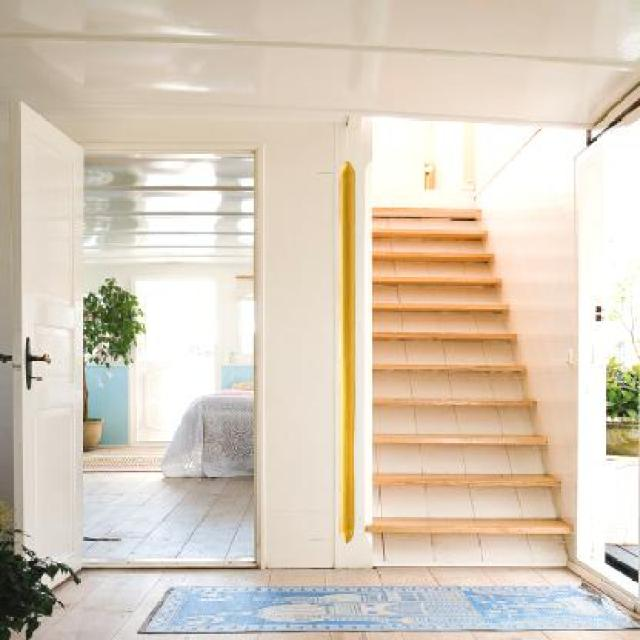stair: (292, 154, 606, 578)
